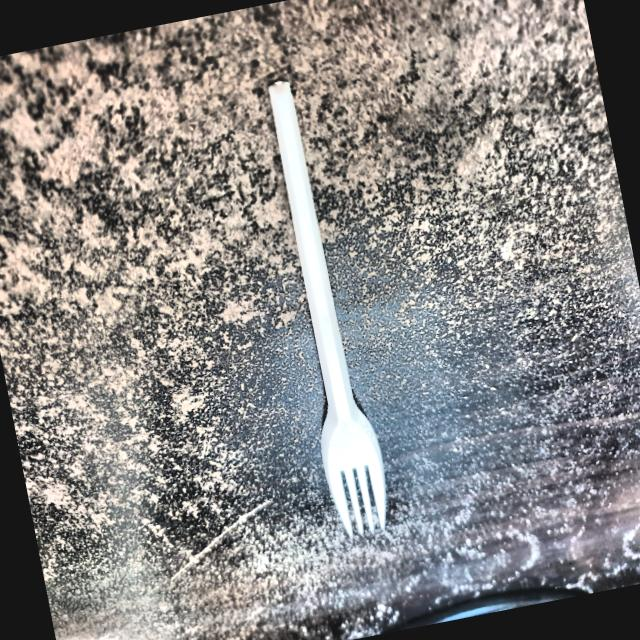plastic utensil: (247, 72, 398, 545)
